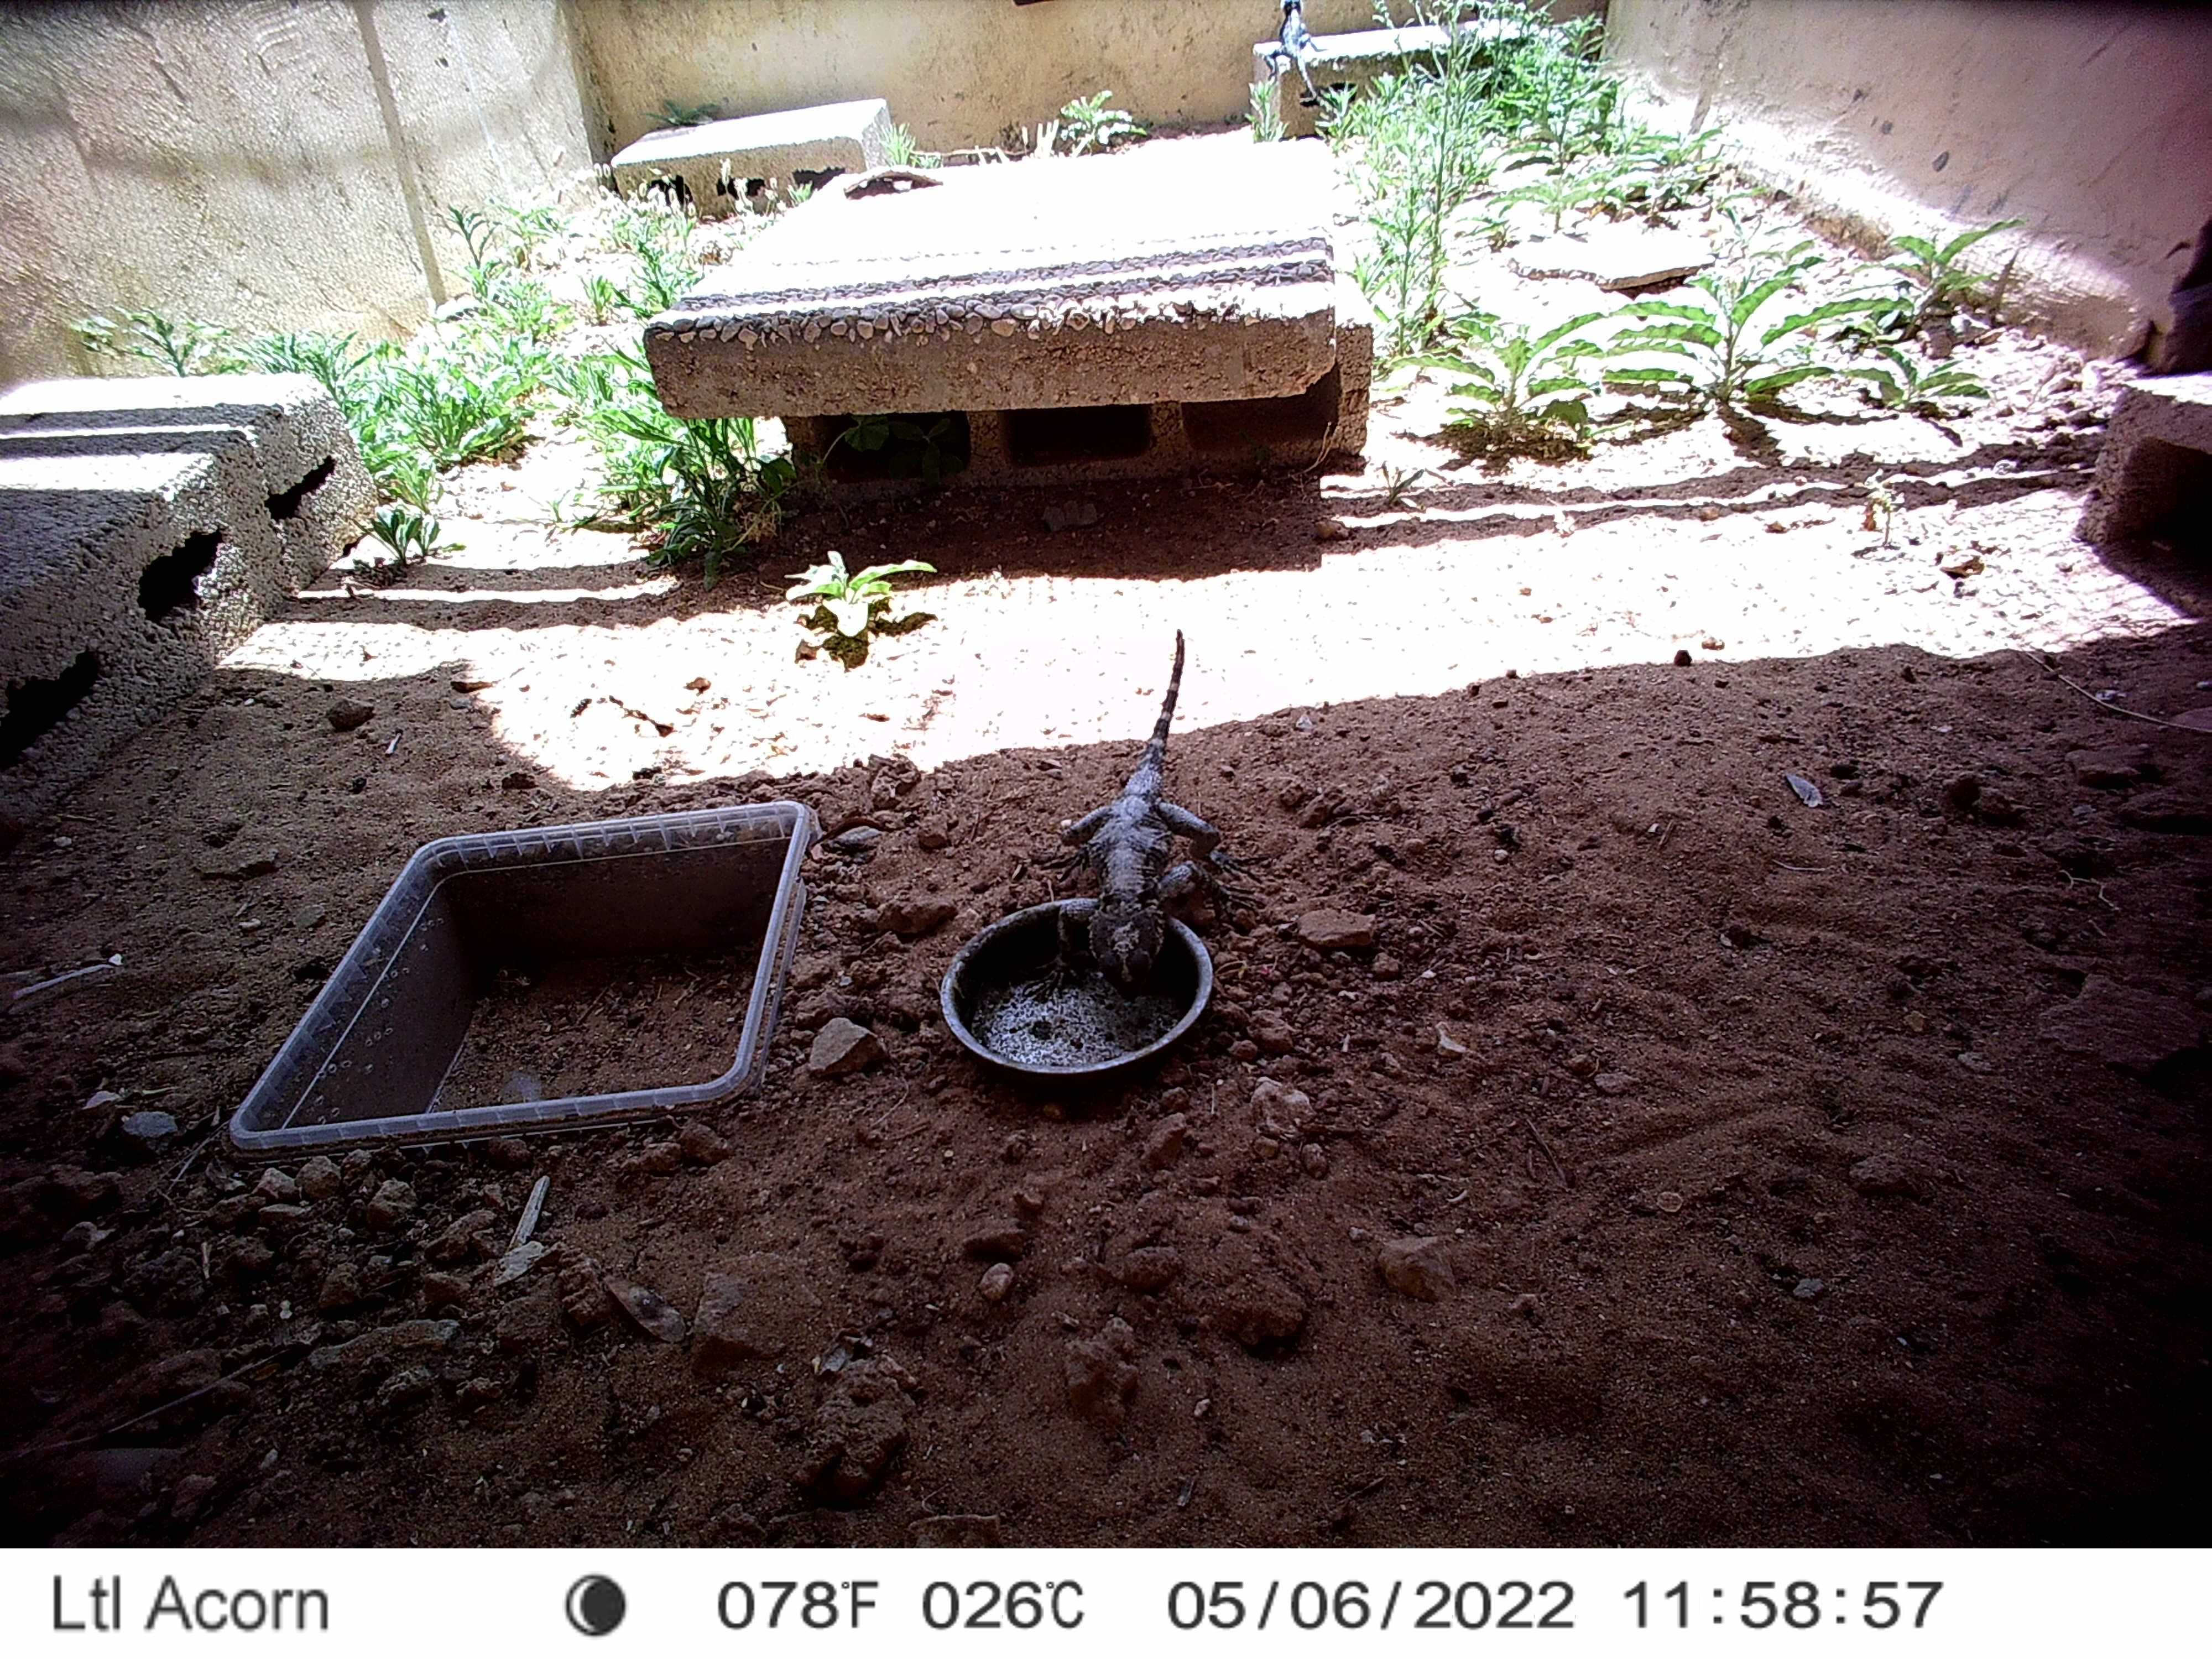lizard: (1028, 643, 1245, 999), (1259, 2, 1346, 103)
